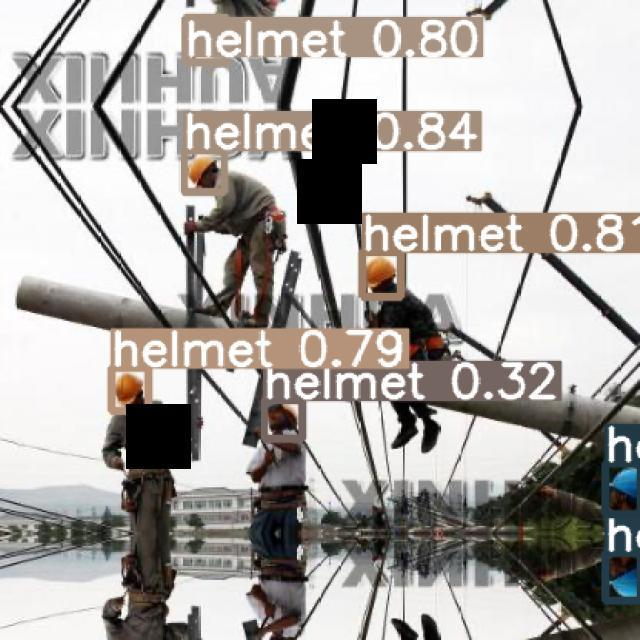yellow helmet: (364, 246, 409, 304), (176, 149, 228, 199), (264, 396, 316, 441), (109, 366, 149, 411)
